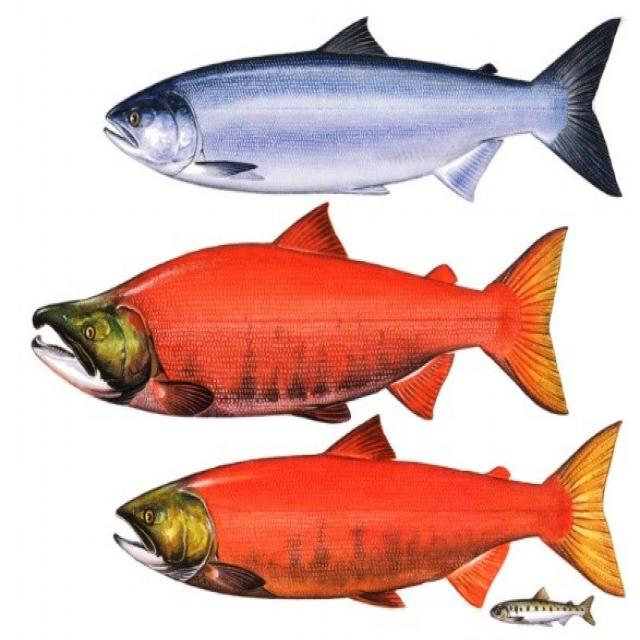salmon: (25, 198, 572, 429), (101, 3, 631, 211), (124, 408, 628, 616)
